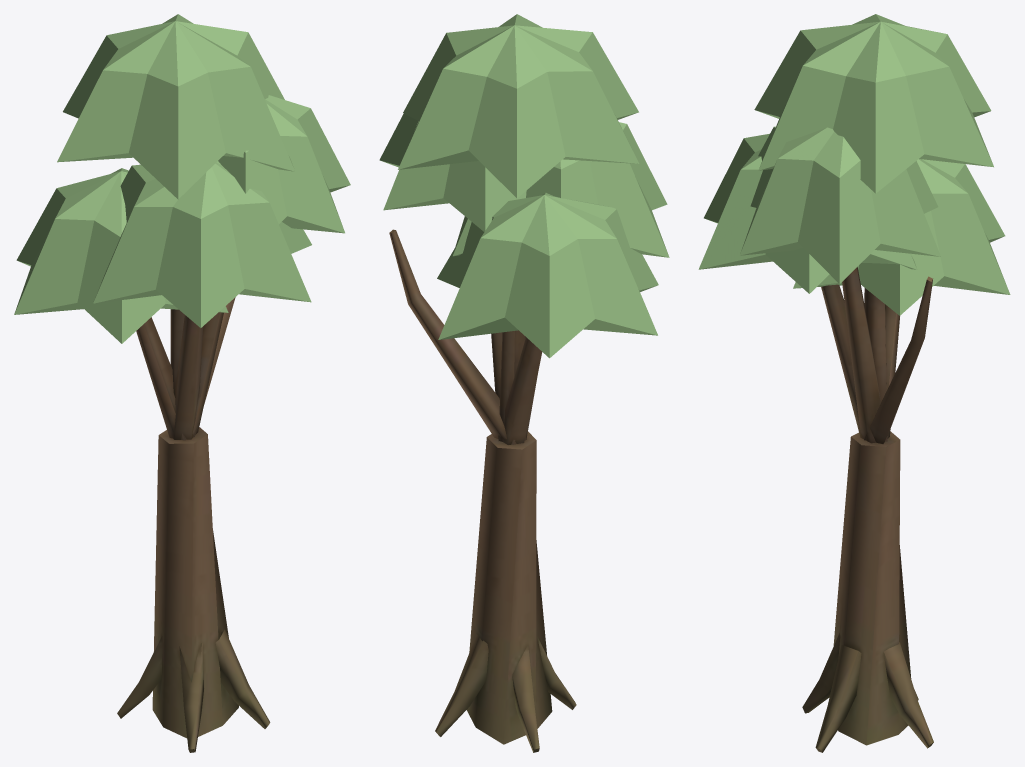
Rendered from arv_carvalho_5.glb.
3 renders of one model, left to right at view 1: azimuth 30°, elevation 25°; view 2: azimuth 150°, elevation 25°; view 3: azimuth 270°, elevation 25°, orthographic.
Parts seen in each view (by area): view 1: arv_carvalho_5_corpo; view 2: arv_carvalho_5_corpo; view 3: arv_carvalho_5_corpo.
Part boxes in pixels (<box>): arv_carvalho_5_corpo: <box>14,14,350,752</box>; arv_carvalho_5_corpo: <box>379,14,669,752</box>; arv_carvalho_5_corpo: <box>698,14,1010,752</box>.
Bounding box in the file's own units: 0.8918 × 1.95 × 0.7842.
2 materials, 1 textured.
